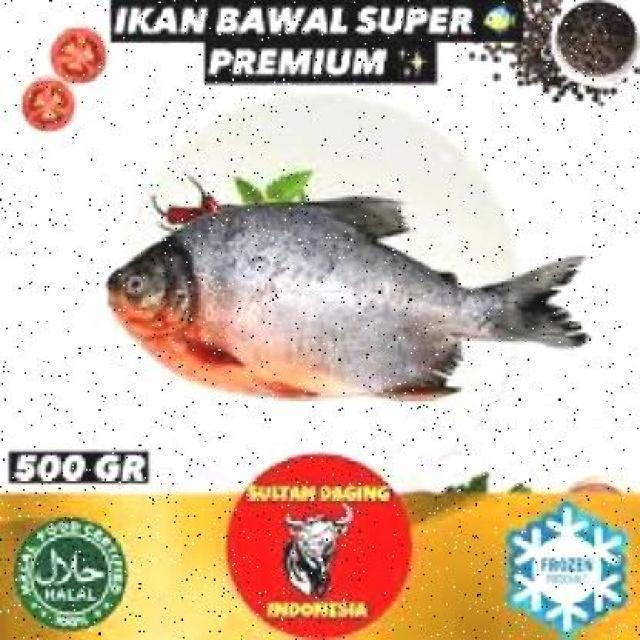ikan-pacu: (100, 204, 562, 396)
